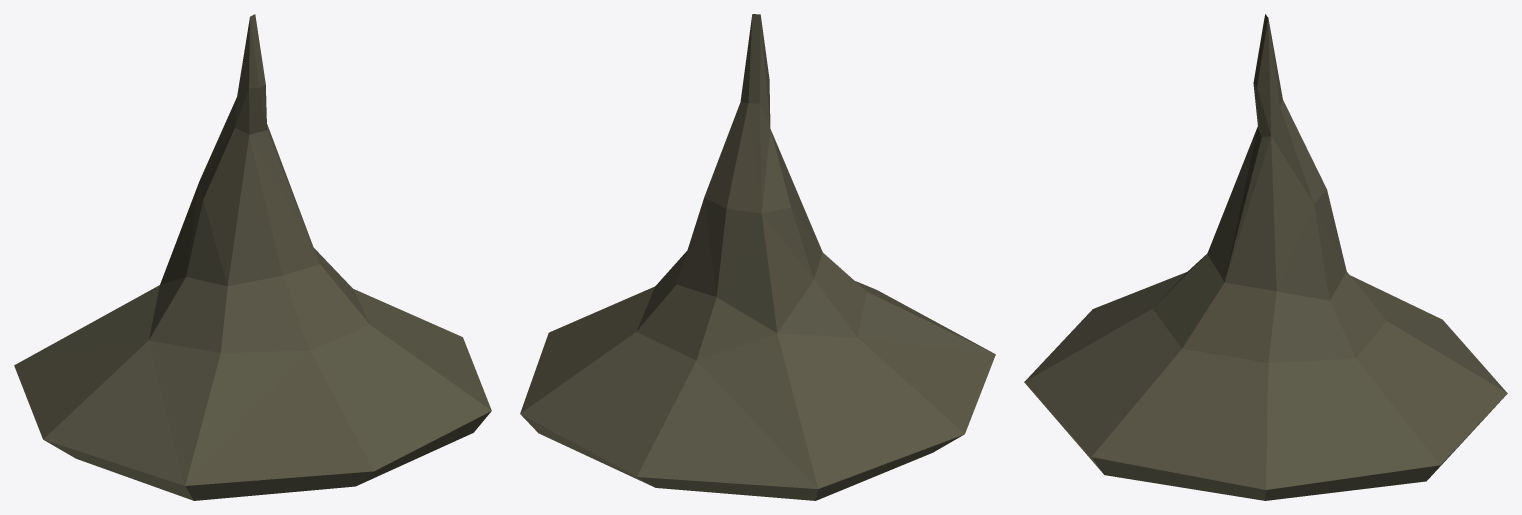
Rendered from 2hreni.fbx.
3 renders of one model, left to right at view 1: azimuth 30°, elevation 25°; view 2: azimuth 150°, elevation 25°; view 3: azimuth 270°, elevation 25°, orthographic.
Parts seen in each view (by area): view 1: Cube; view 2: Cube; view 3: Cube.
Boxes of the visible parts, x1=… form: Cube: x1=14, y1=14, x2=491, y2=500; Cube: x1=520, y1=14, x2=995, y2=500; Cube: x1=1024, y1=14, x2=1507, y2=500.
Bounding box in the file's own units: 520 × 484 × 520.
